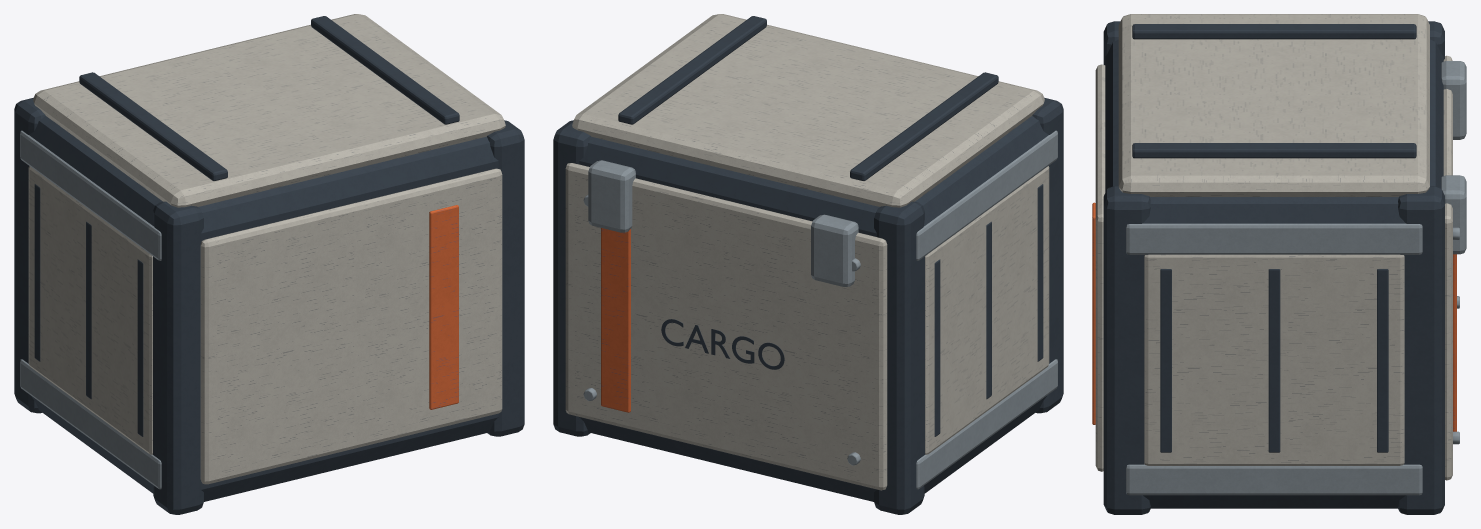
Rendered from cargo-crate.glb.
3 renders of one model, left to right at view 1: azimuth 30°, elevation 25°; view 2: azimuth 150°, elevation 25°; view 3: azimuth 270°, elevation 25°, orthographic. The views are drawn at different scales.
Parts seen in each view (by area): view 1: Assembly_Lunar_ceramic, Assembly_Graphite_frame, Assembly_Machined_alloy, Assembly_Orange_armor; view 2: Assembly_Lunar_ceramic, Assembly_Graphite_frame, Assembly_Machined_alloy, Assembly_Orange_armor; view 3: Assembly_Lunar_ceramic, Assembly_Graphite_frame, Assembly_Machined_alloy, Assembly_Orange_armor.
Boxes of the visible parts, x1,y1,x2,y2 form: Assembly_Lunar_ceramic: [28, 14, 505, 484]; Assembly_Graphite_frame: [14, 16, 524, 514]; Assembly_Machined_alloy: [20, 130, 161, 489]; Assembly_Orange_armor: [429, 205, 458, 409]; Assembly_Lunar_ceramic: [565, 14, 1049, 490]; Assembly_Graphite_frame: [553, 16, 1063, 514]; Assembly_Machined_alloy: [583, 130, 1057, 489]; Assembly_Orange_armor: [601, 228, 630, 412]; Assembly_Lunar_ceramic: [1095, 14, 1452, 480]; Assembly_Graphite_frame: [1103, 21, 1444, 514]; Assembly_Machined_alloy: [1126, 61, 1466, 495]; Assembly_Orange_armor: [1092, 202, 1456, 431].
Size of the model in its own units: 1.63 by 1.39 by 1.38.
Materials: 5 (5 with a texture image).
